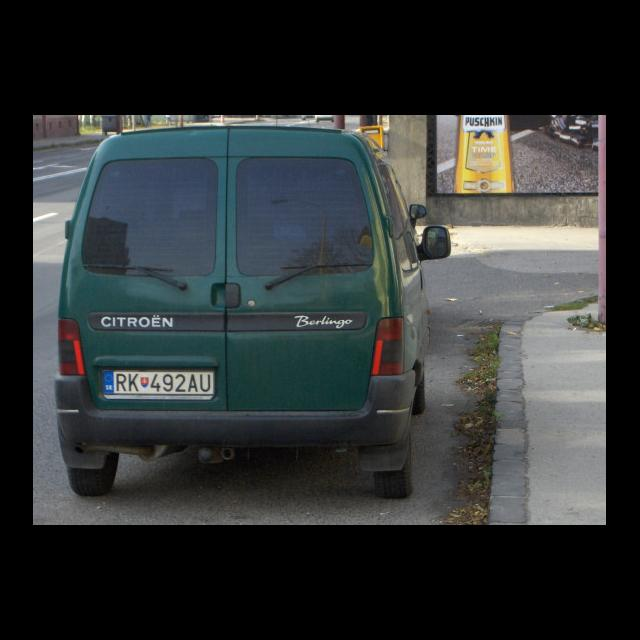Plate: (100, 366, 216, 399)
